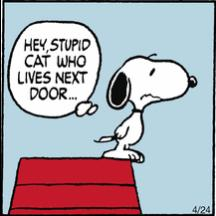snoopy: (92, 52, 198, 164)
